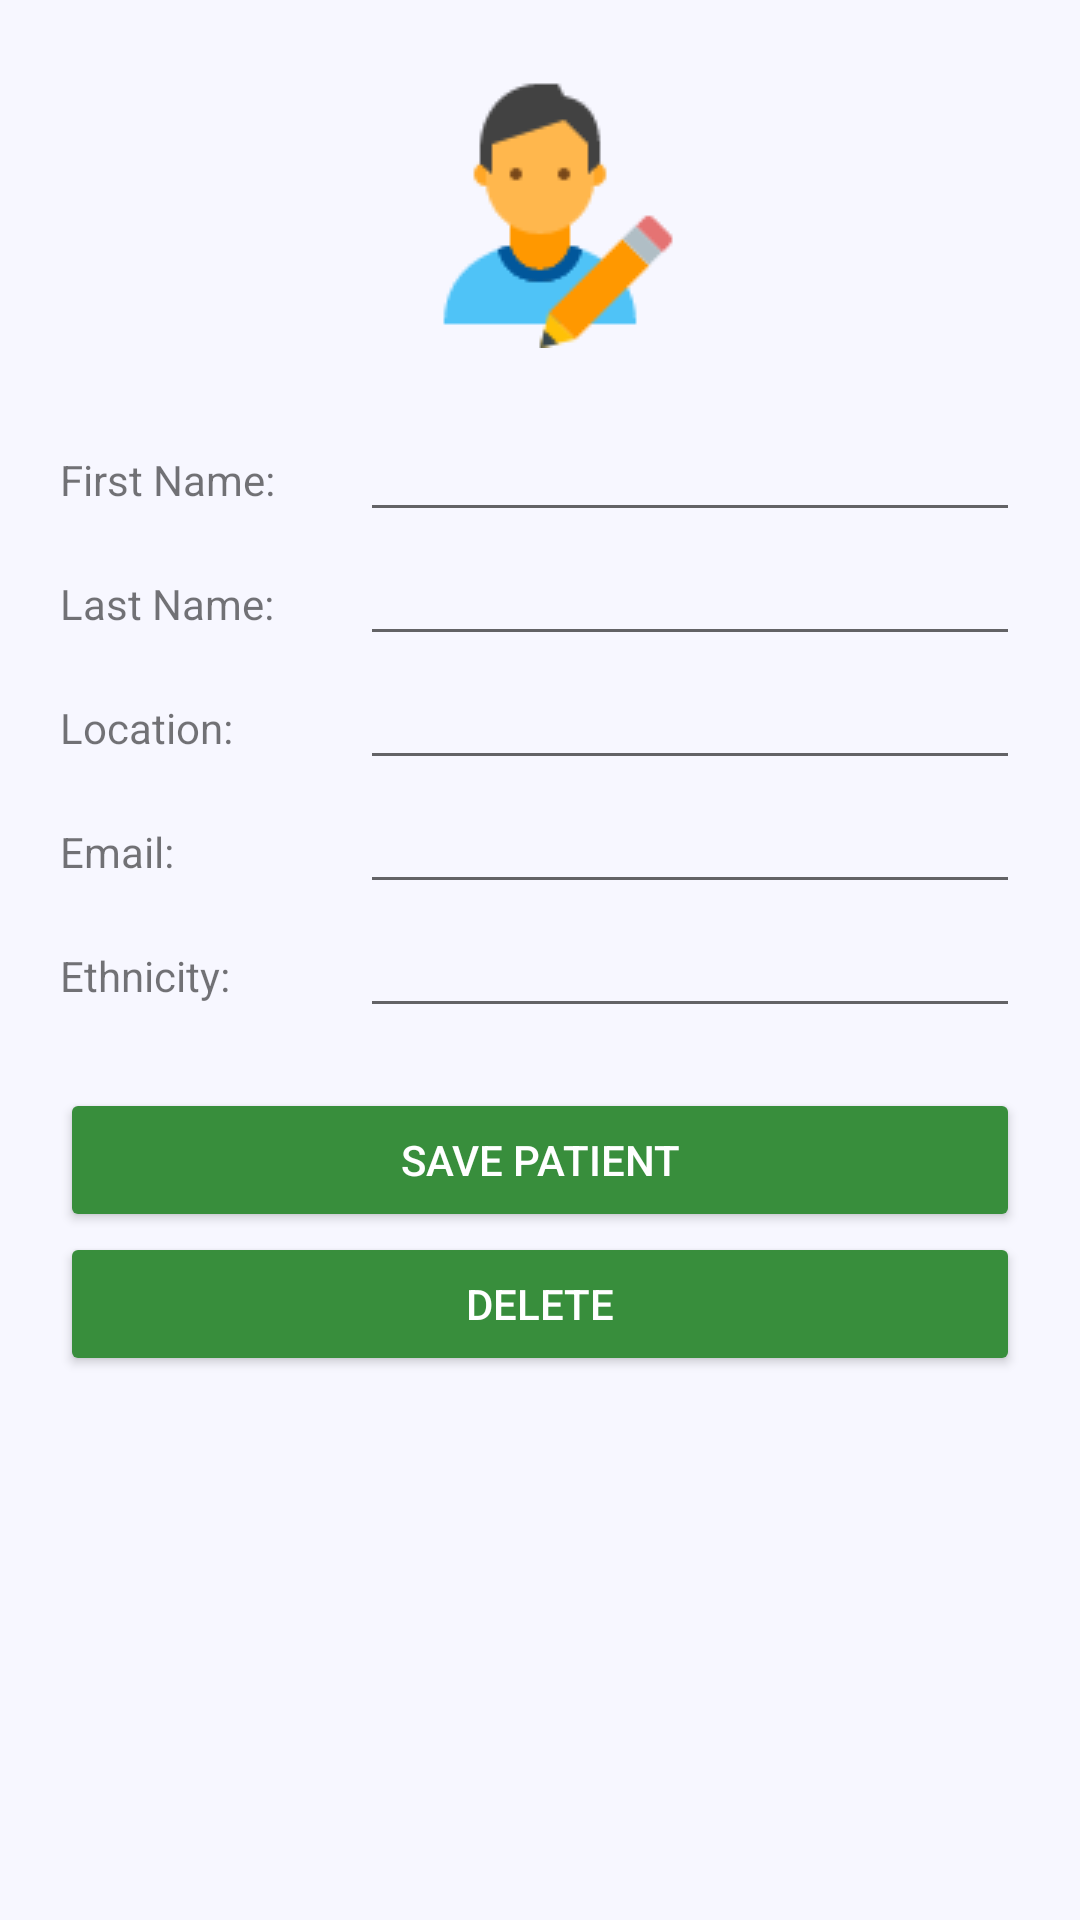

Named icons in this screenshot (1080×1920) and their centers, (x=x, y=y):
edit patient: (x=558, y=215)
